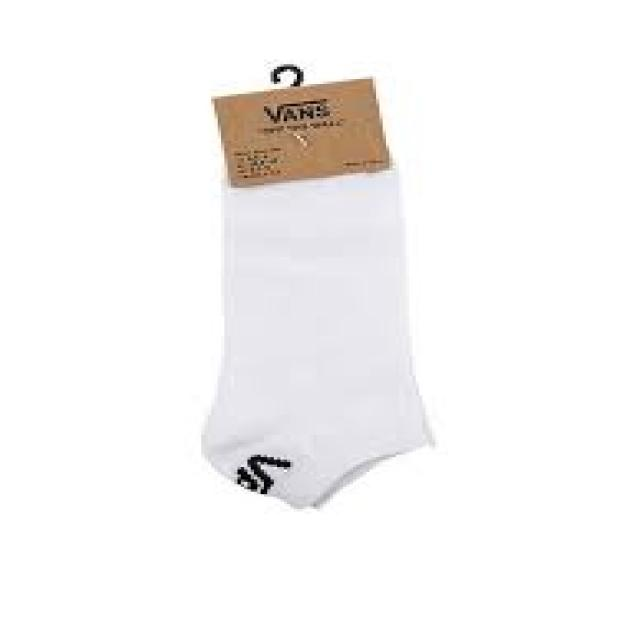sock: (198, 64, 435, 509)
